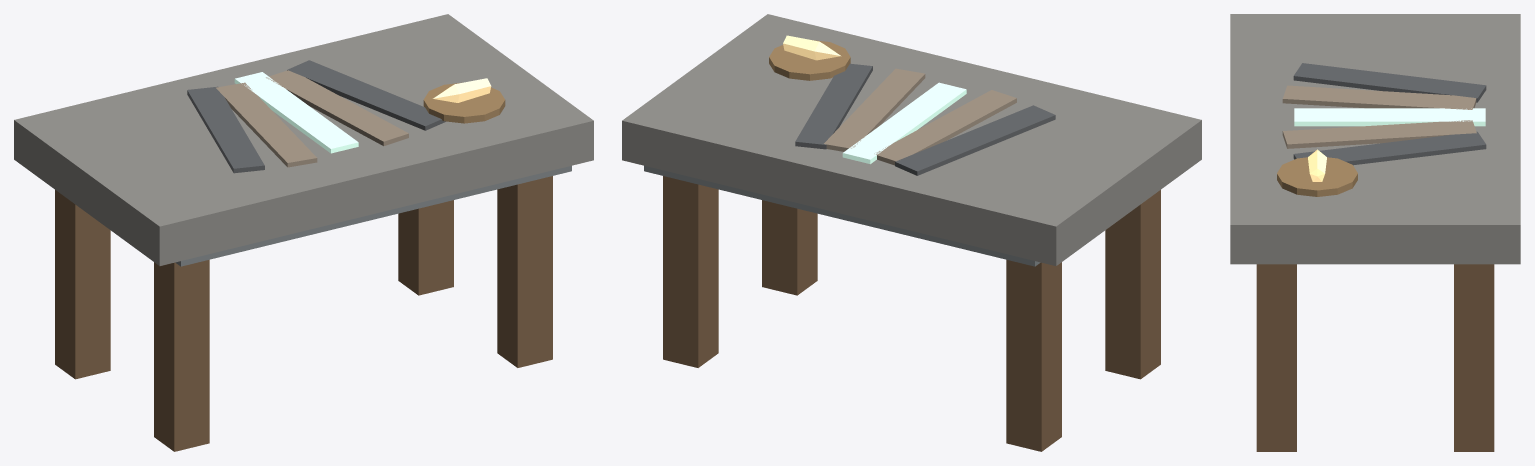
File: decor-strata-map-table.glb
The picture shows the model from 3 angles, left to right: view 1: azimuth 30°, elevation 25°; view 2: azimuth 150°, elevation 25°; view 3: azimuth 270°, elevation 25°; orthographic projection.
Visible parts, largest first — view 1: top, leg--0.68-0.34, leg-0.68-0.34, leg--0.68--0.34, leg-0.68--0.34, strata-3, strata-4, strata-2, strata-1, strata-0, edge-band-back, compass-ring (+1 smaller); view 2: top, leg--0.68--0.34, leg-0.68--0.34, leg--0.68-0.34, leg-0.68-0.34, strata-0, strata-1, strata-2, strata-3, strata-4, edge-band-front, compass-ring (+1 smaller); view 3: top, leg-0.68--0.34, leg-0.68-0.34, strata-3, strata-0, strata-1, strata-2, strata-4, compass-ring, compass-point.
Boxes of the visible parts, x1,y1,x2,y2 form: top: [14, 14, 593, 265]; leg--0.68-0.34: [154, 259, 209, 451]; leg-0.68-0.34: [497, 176, 552, 367]; leg--0.68--0.34: [55, 190, 110, 379]; leg-0.68--0.34: [398, 200, 453, 295]; strata-3: [266, 70, 408, 146]; strata-4: [287, 60, 445, 130]; strata-2: [234, 72, 358, 153]; strata-1: [216, 82, 317, 167]; strata-0: [187, 86, 264, 173]; edge-band-back: [175, 165, 571, 266]; compass-ring: [423, 82, 505, 123]; top: [622, 14, 1201, 265]; leg--0.68--0.34: [1006, 259, 1061, 451]; leg-0.68--0.34: [663, 176, 718, 367]; leg--0.68-0.34: [1105, 190, 1160, 379]; leg-0.68-0.34: [762, 200, 817, 295]; strata-0: [895, 105, 1055, 175]; strata-1: [874, 90, 1016, 165]; strata-2: [842, 82, 966, 164]; strata-3: [824, 68, 925, 151]; strata-4: [795, 63, 872, 149]; edge-band-front: [644, 165, 1040, 266]; compass-ring: [769, 40, 850, 80]; top: [1230, 14, 1520, 264]; leg-0.68--0.34: [1454, 264, 1494, 451]; leg-0.68-0.34: [1256, 264, 1296, 451]; strata-3: [1282, 120, 1476, 148]; strata-0: [1293, 63, 1486, 102]; strata-1: [1282, 85, 1476, 109]; strata-2: [1294, 108, 1485, 126]; strata-4: [1293, 131, 1486, 165]; compass-ring: [1277, 157, 1357, 196]; compass-point: [1308, 149, 1326, 181].
Size of the model in its own units: 1.72 by 1.02 by 1.
